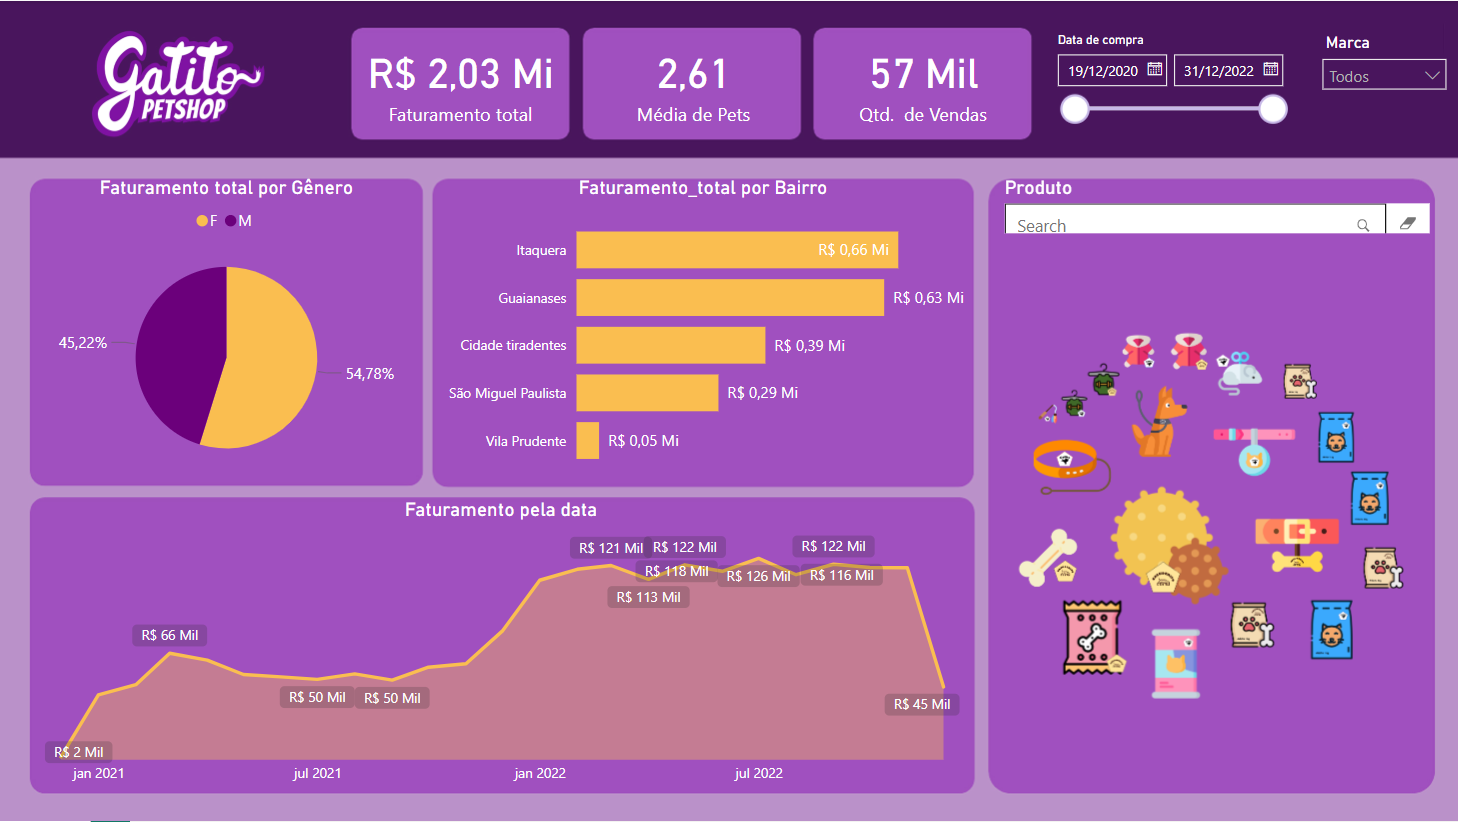

The dashboard page shown, as its layout file describes it:
{"tool":"powerbi","page":{"name":"Gatito Petshop","canvas":[1280,720],"ordinal":0},"visuals":[{"type":"card","fields":{"Values":["Avg(Clientes.Pets)"]},"box":[512.5,23.1,192.4,96.7],"z":0},{"type":"card","fields":{"Values":["Sum(Vendas.Quantidade)"]},"box":[712,23.1,196.8,96.7],"z":1000},{"type":"card","fields":{"Values":["Vendas.Faturamento_total"]},"box":[306.8,23.1,196,96.7],"z":2000},{"type":"pieChart","title":"Faturamento total por Gênero","fields":{"Category":["Clientes.Gênero"],"Y":["Vendas.Faturamento_total"]},"box":[25.7,153.4,346.7,271.3],"z":3000},{"type":"clusteredBarChart","fields":{"Category":["Clientes.Bairro"],"Y":["Vendas.Faturamento_total"]},"box":[380.4,153.4,474.4,271.3],"z":4000},{"type":"areaChart","title":"Faturamento pela data","fields":{"Category":["Vendas.Data de compra.Variation.Hierarquia de datas.Ano","Vendas.Data de compra.Variation.Hierarquia de datas.Trimestre","Vendas.Data de compra.Variation.Hierarquia de datas.Mês","Vendas.Data de compra.Variation.Hierarquia de datas.Dia"],"Y":["Vendas.Faturamento_total"]},"box":[25.7,436.3,829.1,259.8],"z":5000},{"type":"ImageGrid_FC5183B9_926C_45E0_B5F7_0CE9EAF1DA9B","fields":{"ImageURL":["Produtos.Url img"]},"box":[867.2,208.4,392.8,487.7],"z":6000},{"type":"textFilter25A4896A83E0487089E2B90C9AE57C8A","title":"Produto","fields":{"field":["Produtos.Nome produto"]},"box":[876.9,153.4,383.1,55],"z":7000},{"type":"slicer","fields":{"Values":["Produtos.Marca"]},"box":[1150.9,23.1,129.5,96.7],"z":8000},{"type":"slicer","fields":{"Values":["Vendas.Data de compra"]},"box":[916,23.1,223.4,96.7],"z":9000},{"type":"shape","box":[16,16.8,49.7,95.8],"z":10000}]}

Visuals, with their boxes in screenshot pixels (x1, y1, x2, y2), scaled from the page's 1280x720 canvas onto the 1458x822 screenshot:
card - Avg(Clientes.Pets): bbox=(584, 26, 803, 137)
card - Sum(Vendas.Quantidade): bbox=(811, 26, 1035, 137)
card - Vendas.Faturamento_total: bbox=(349, 26, 573, 137)
"Faturamento total por Gênero" pieChart: bbox=(29, 175, 424, 485)
clusteredBarChart - Clientes.Bairro x Vendas.Faturamento_total: bbox=(433, 175, 974, 485)
"Faturamento pela data" areaChart: bbox=(29, 498, 974, 795)
ImageGrid_FC5183B9_926C_45E0_B5F7_0CE9EAF1DA9B - Produtos.Url img: bbox=(988, 238, 1435, 795)
"Produto" textFilter25A4896A83E0487089E2B90C9AE57C8A: bbox=(999, 175, 1435, 238)
slicer - Produtos.Marca: bbox=(1311, 26, 1457, 137)
slicer - Vendas.Data de compra: bbox=(1043, 26, 1298, 137)
shape: bbox=(18, 19, 75, 129)
